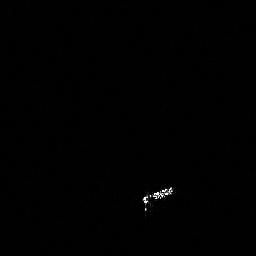ship: (142, 184, 174, 205)
